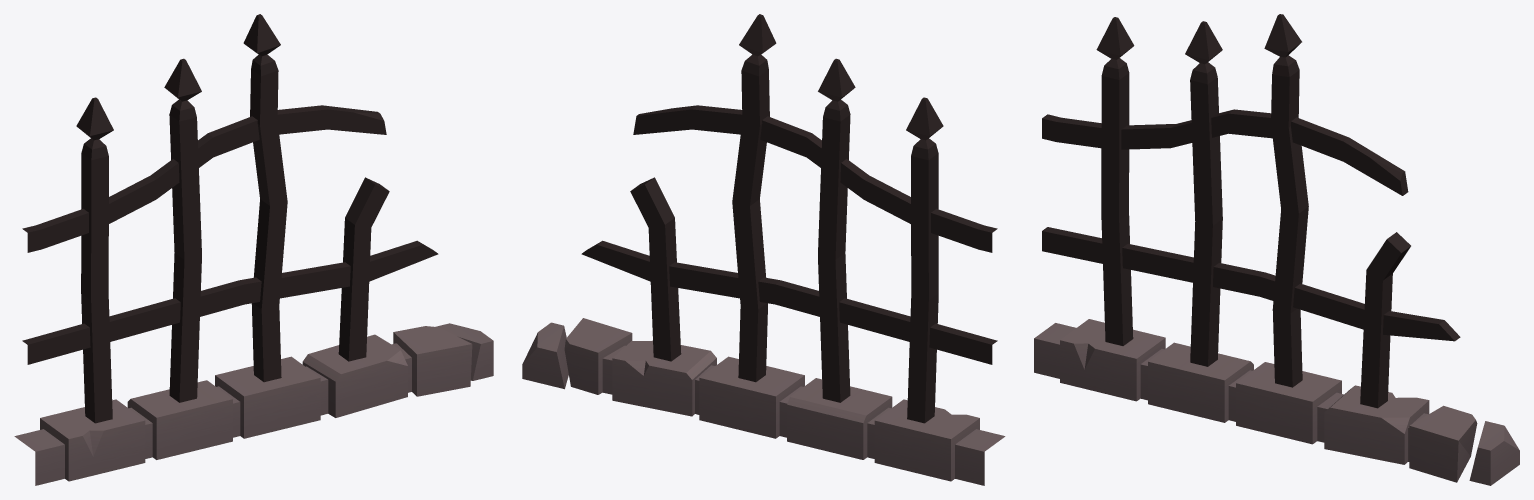
File: fenceASection5.glb
3 views of the same model, side by side, from view 1: azimuth 30°, elevation 25°; view 2: azimuth 150°, elevation 25°; view 3: azimuth 330°, elevation 25° (orthographic).
Parts seen in each view (by area): view 1: fenceASection5; view 2: fenceASection5; view 3: fenceASection5.
Boxes of the visible parts, <box> form: fenceASection5: <box>14,14,493,485</box>; fenceASection5: <box>522,14,1005,485</box>; fenceASection5: <box>1034,14,1519,485</box>.
Size of the model in its own units: 2.55 by 2.16 by 0.3313.
Materials: 1 (1 with a texture image).
